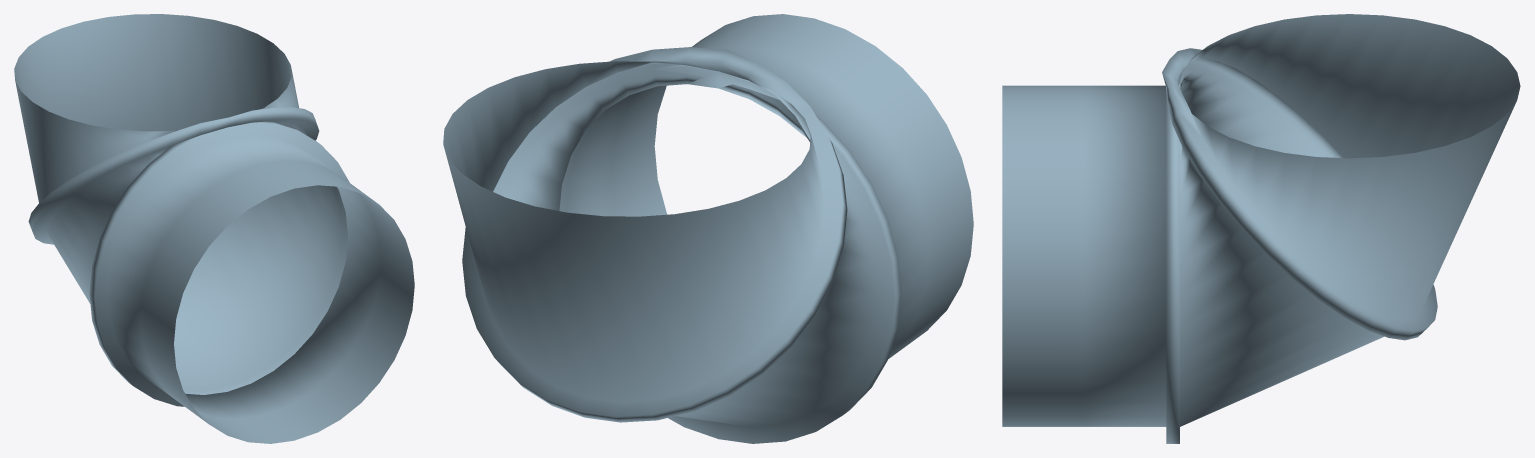
Rendered from curved_pipe.fbx.
3 renders of one model, left to right at view 1: azimuth 30°, elevation 25°; view 2: azimuth 150°, elevation 25°; view 3: azimuth 270°, elevation 25°, orthographic. The views are drawn at different scales.
Parts seen in each view (by area): view 1: curved_pipe; view 2: curved_pipe; view 3: curved_pipe.
Part boxes in pixels (bbox=[...]): curved_pipe: bbox=[14, 14, 414, 443]; curved_pipe: bbox=[443, 14, 973, 443]; curved_pipe: bbox=[1002, 14, 1520, 443].
Size of the model in its own units: 0.924 by 0.9611 by 1.27.
